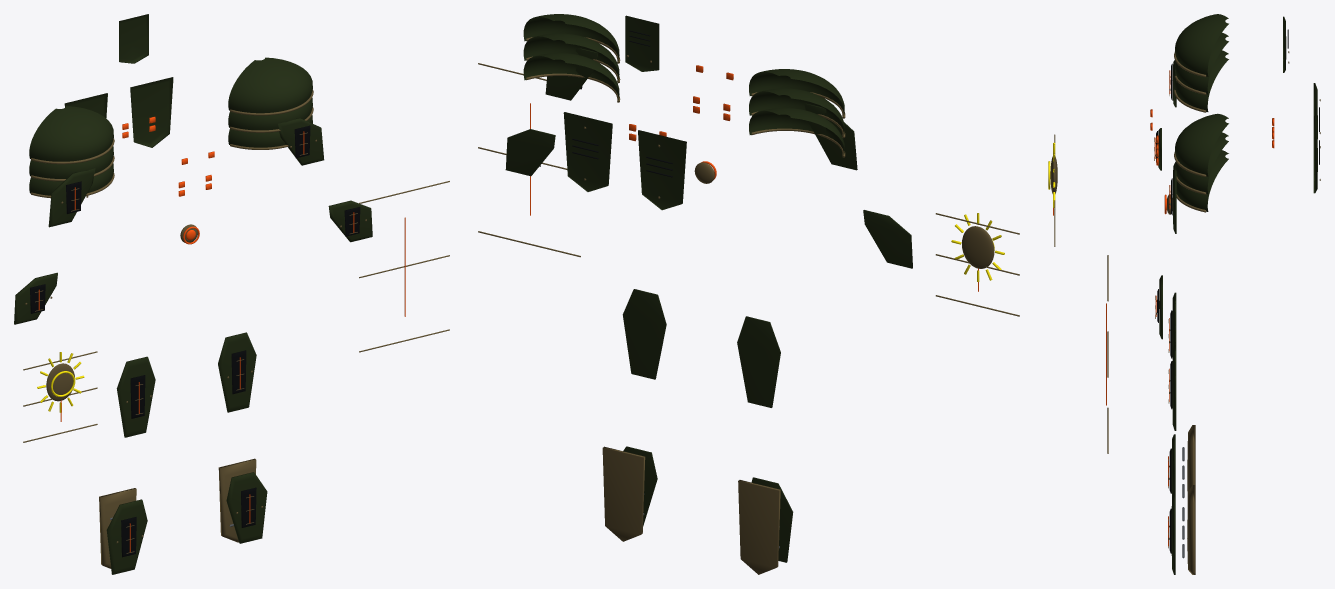
The model's file is Auren-new-parts.obj.
3 views of the same model, side by side, from view 1: azimuth 30°, elevation 25°; view 2: azimuth 150°, elevation 25°; view 3: azimuth 270°, elevation 25° (orthographic). The views are drawn at different scales.
Size of the model in its own units: 1.45 by 1.55 by 0.7371.
